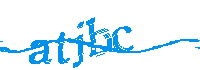a: (28, 38, 54, 67)
c: (111, 21, 135, 53)
h: (86, 19, 113, 58)
j: (71, 20, 86, 69)
t: (55, 30, 71, 65)
